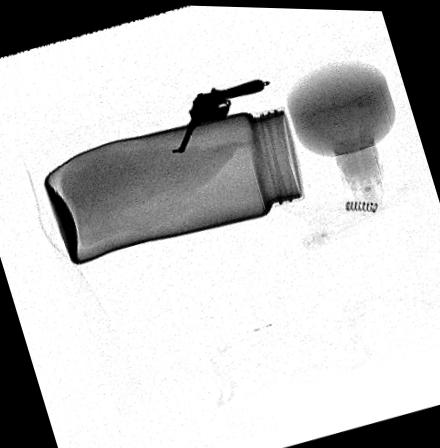Gun: (171, 75, 267, 155)
